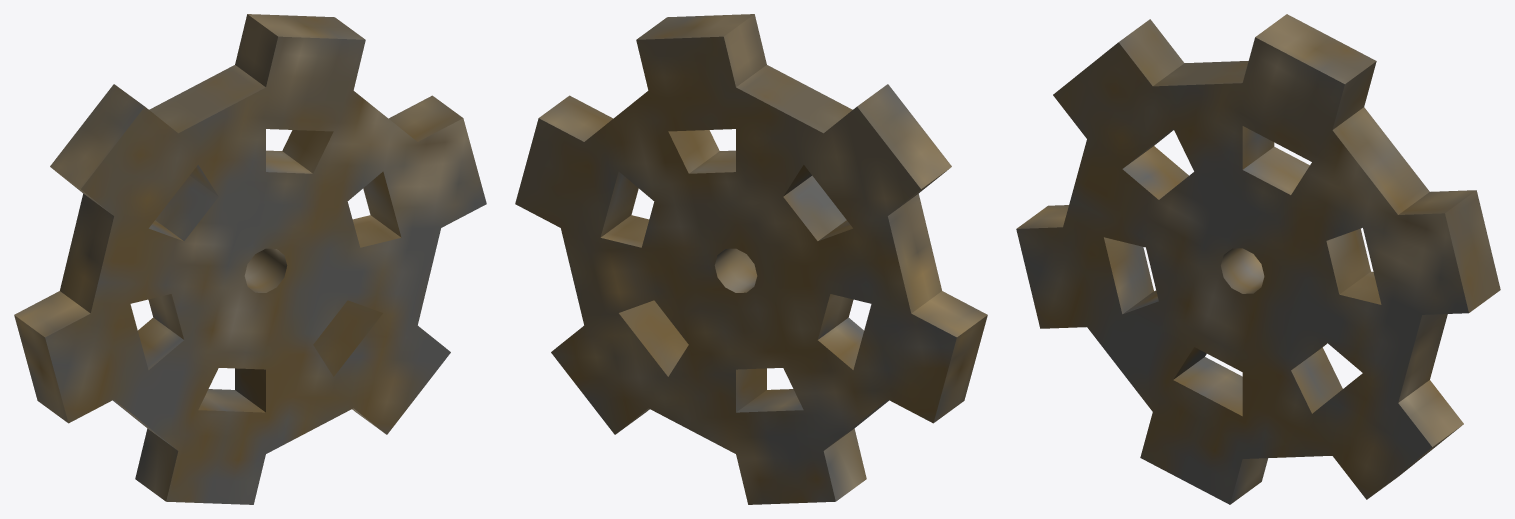
File: Engrenagem_5.glb
3 views of the same model, side by side, from view 1: azimuth 30°, elevation 25°; view 2: azimuth 150°, elevation 25°; view 3: azimuth 330°, elevation 25° (orthographic). The views are drawn at different scales.
Visible parts, largest first — view 1: Engrenagem.5; view 2: Engrenagem.5; view 3: Engrenagem.5.
Part boxes in pixels (x1,y1,x2,y2): Engrenagem.5: (14, 14, 486, 504); Engrenagem.5: (515, 14, 987, 504); Engrenagem.5: (1016, 14, 1500, 504).
Bounding box in the file's own units: 0.3739 × 0.3739 × 0.0454.
Materials: 1 (1 with a texture image).
